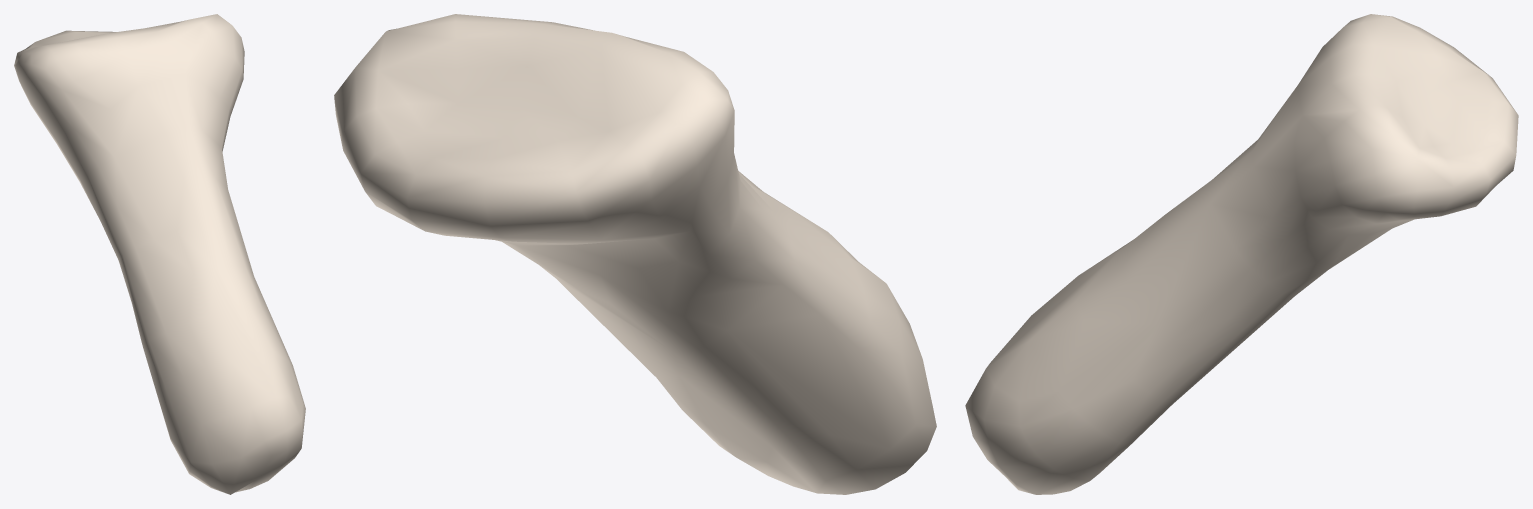
The model's file is left_digit_5_distal.glb.
3 views of the same model, side by side, from view 1: azimuth 30°, elevation 25°; view 2: azimuth 150°, elevation 25°; view 3: azimuth 270°, elevation 25° (orthographic). The views are drawn at different scales.
Parts seen in each view (by area): view 1: Distal phalanx of 5th finger.r; view 2: Distal phalanx of 5th finger.r; view 3: Distal phalanx of 5th finger.r.
Boxes of the visible parts, x1=… form: Distal phalanx of 5th finger.r: x1=14, y1=14, x2=305, y2=494; Distal phalanx of 5th finger.r: x1=334, y1=14, x2=936, y2=494; Distal phalanx of 5th finger.r: x1=965, y1=14, x2=1518, y2=494.
Size of the model in its own units: 0.00773 by 0.0122 by 0.0137.
